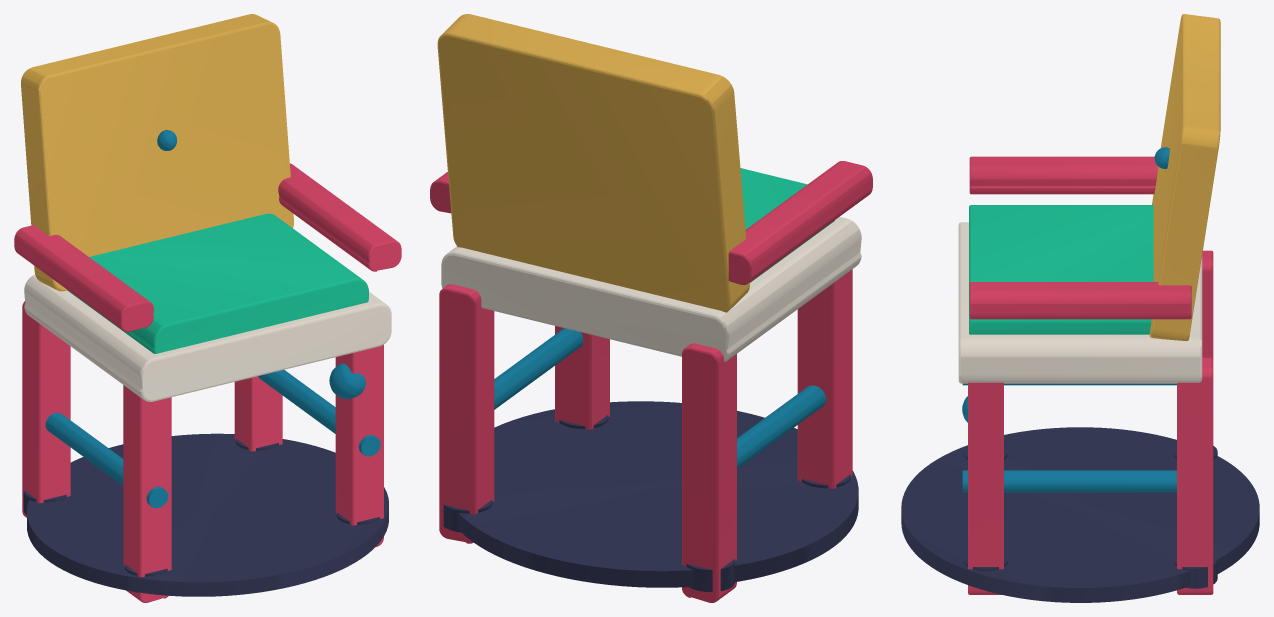
Rendered from 1364_城市运转图鉴_生态廊道.glb.
3 views of the same model, side by side, from view 1: azimuth 30°, elevation 25°; view 2: azimuth 150°, elevation 25°; view 3: azimuth 270°, elevation 25° (orthographic). The views are drawn at different scales.
Parts seen in each view (by area): view 1: card_1364; view 2: card_1364; view 3: card_1364.
Part boxes in pixels (x1,y1,x2,y2): card_1364: (14, 14, 401, 602); card_1364: (430, 14, 872, 602); card_1364: (901, 14, 1259, 602).
Size of the model in its own units: 0.7396 by 1 by 0.6966.
